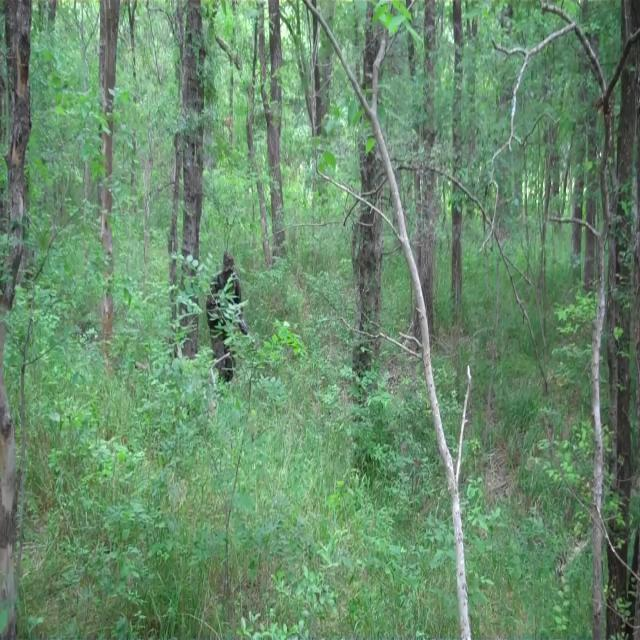MIL_Pax: (206, 248, 247, 382)
